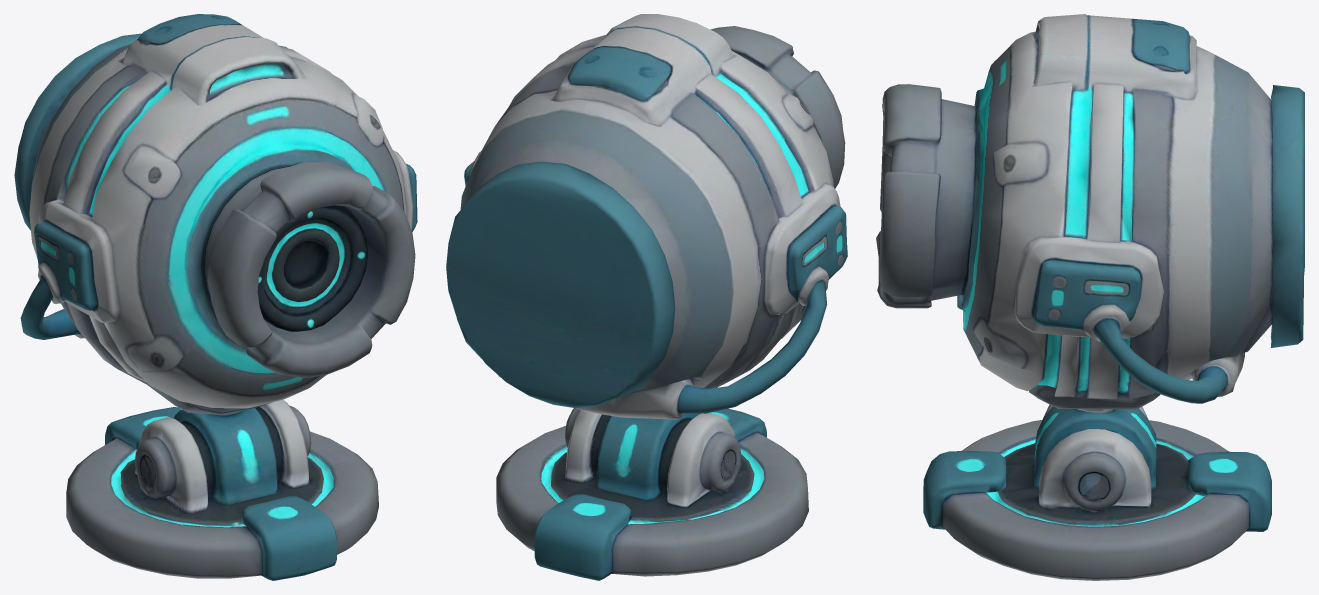
File: airlock_pod.glb
3 renders of one model, left to right at view 1: azimuth 30°, elevation 25°; view 2: azimuth 150°, elevation 25°; view 3: azimuth 270°, elevation 25°, orthographic.
Parts seen in each view (by area): view 1: geometry_0; view 2: geometry_0; view 3: geometry_0.
Part boxes in pixels (x1=…): geometry_0: x1=14, y1=14, x2=417, y2=580; geometry_0: x1=446, y1=14, x2=847, y2=580; geometry_0: x1=876, y1=14, x2=1304, y2=580.
Bounding box in the file's own units: 0.7495 × 0.9517 × 0.7529.
1 material, 1 textured.
